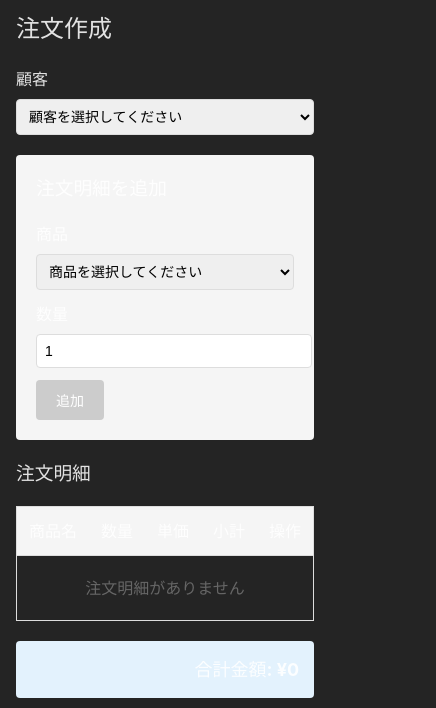
Test case: CreateOrderForm › should calculate and display subtotal for each order item
The image size is (436, 708).
Select "ノートPC - ¥50,000" in the dropdown labelled "商品" at coordinates (165, 272), box [36,254,294,290]
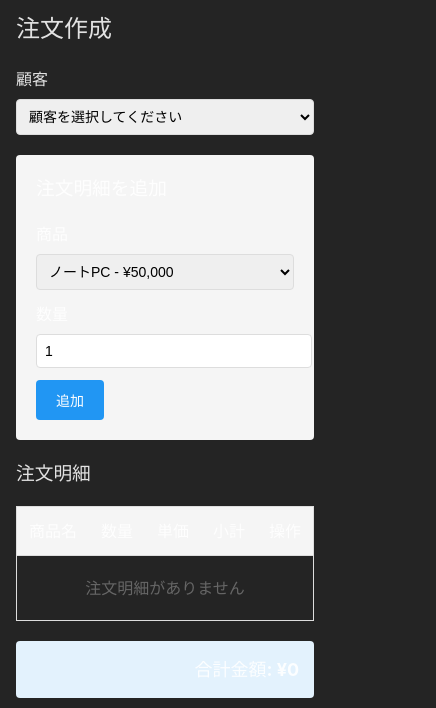
Replace the text in the number field labelled "数量" with "3" at coordinates (174, 351), box [36,334,312,368]
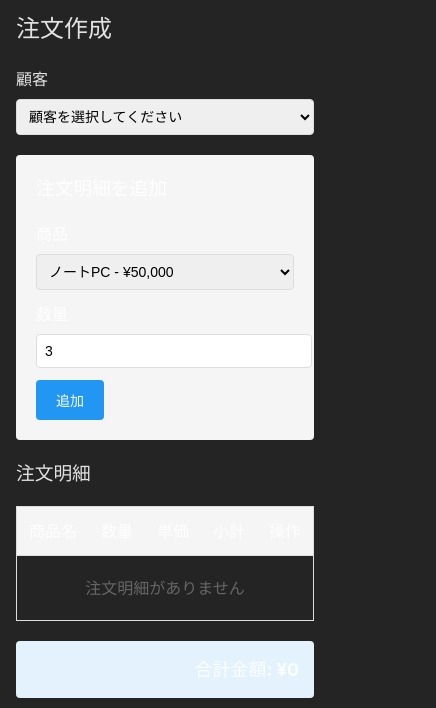
Click the button "追加" at coordinates (70, 400), box [36,380,104,420]
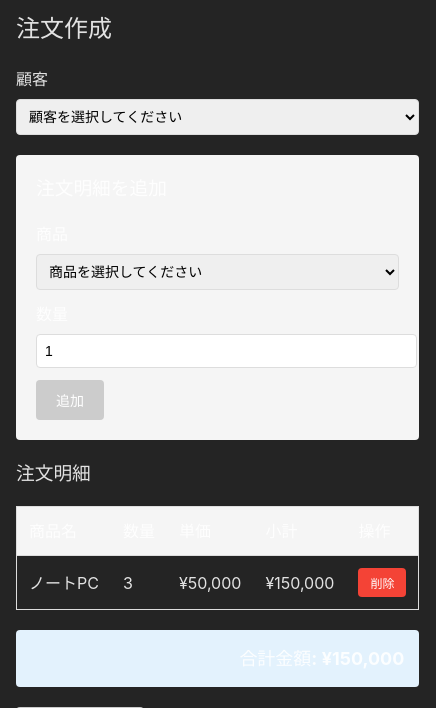
Now the text "¥150,000" is shown, box [253,556,346,610]
